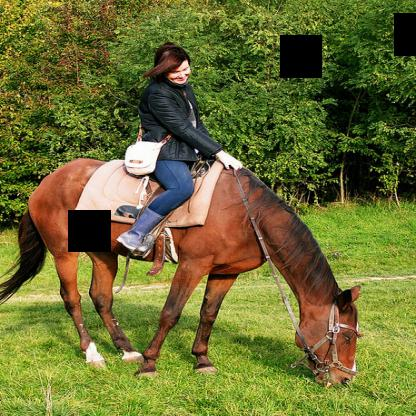handbag: (124, 115, 175, 181)
